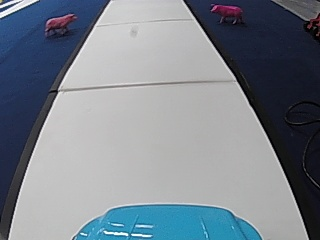pig: (207, 2, 246, 25), (42, 11, 76, 37)
